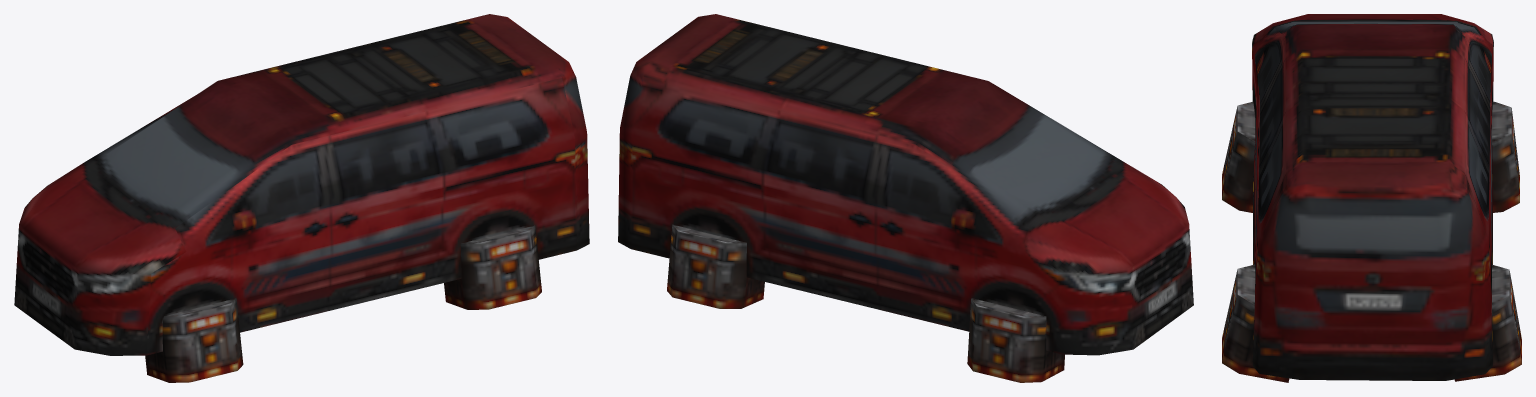
File: CP_Air_Traffic_Minivan.fbx
3 views of the same model, side by side, from view 1: azimuth 30°, elevation 25°; view 2: azimuth 150°, elevation 25°; view 3: azimuth 270°, elevation 25° (orthographic). The views are drawn at different scales.
Visible parts, largest first — view 1: CP_Air_Traffic_Minivan; view 2: CP_Air_Traffic_Minivan; view 3: CP_Air_Traffic_Minivan.
Boxes of the visible parts, x1,y1,x2,y2 form: CP_Air_Traffic_Minivan: (14,14,589,382); CP_Air_Traffic_Minivan: (618,14,1193,382); CP_Air_Traffic_Minivan: (1222,14,1521,382).
Size of the model in its own units: 484 by 190 by 222.
